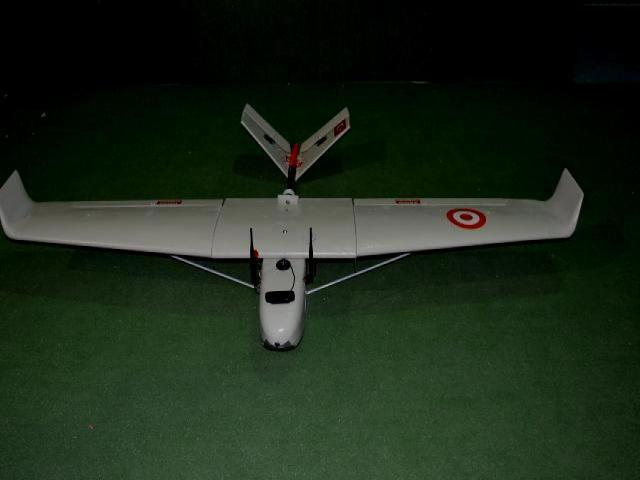iha: (1, 98, 593, 358)
